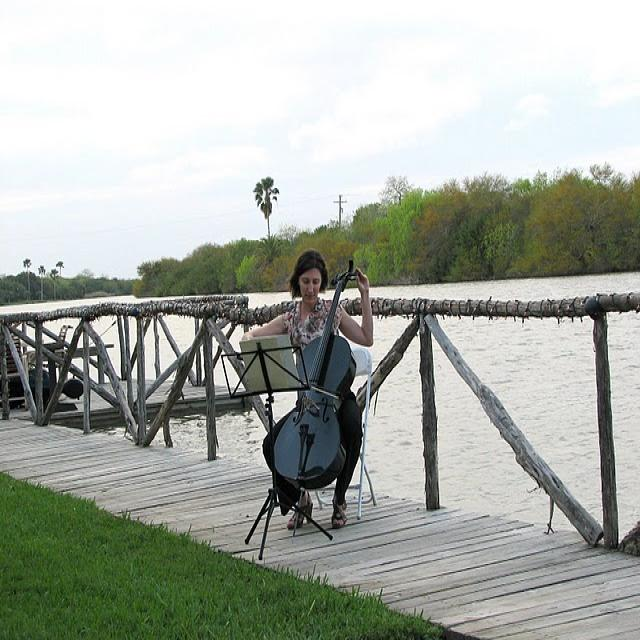cello: (273, 261, 359, 488)
